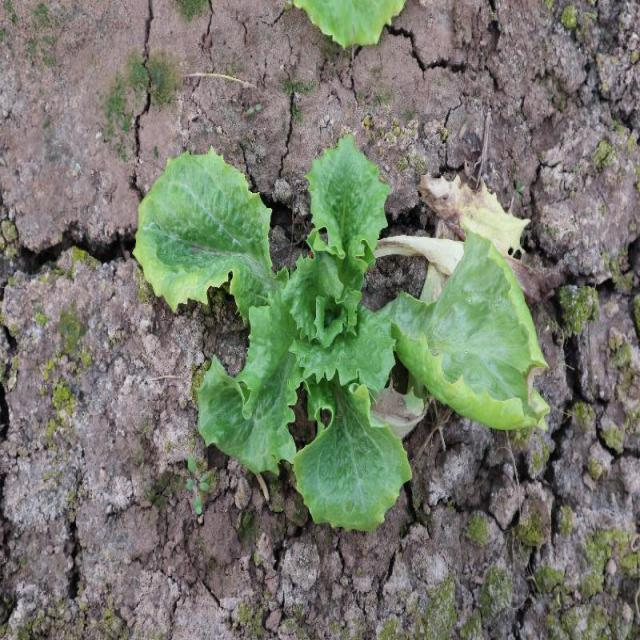crop: (134, 132, 549, 528)
